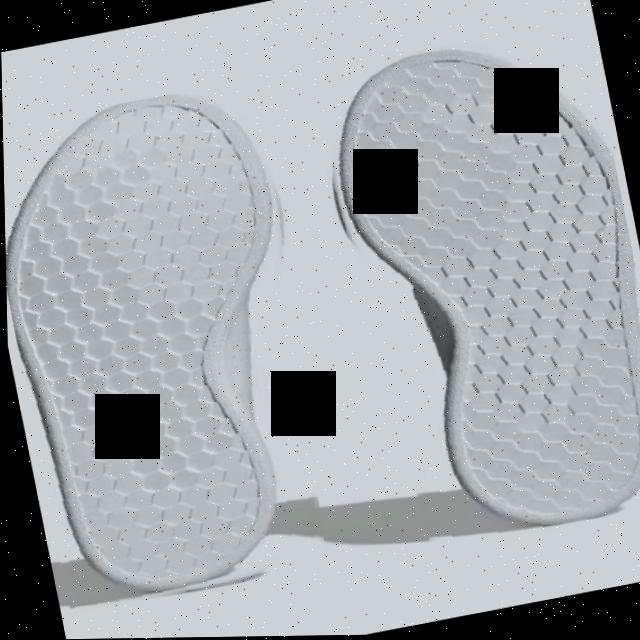shoe: (1, 76, 356, 620), (300, 14, 640, 558)
